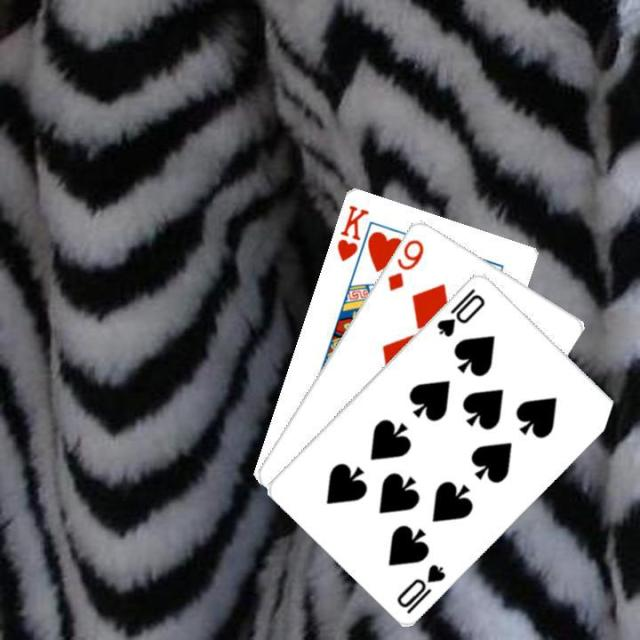10S: (392, 559, 448, 615), (432, 284, 487, 338)
9D: (383, 235, 426, 292)
KH: (332, 200, 370, 263)
